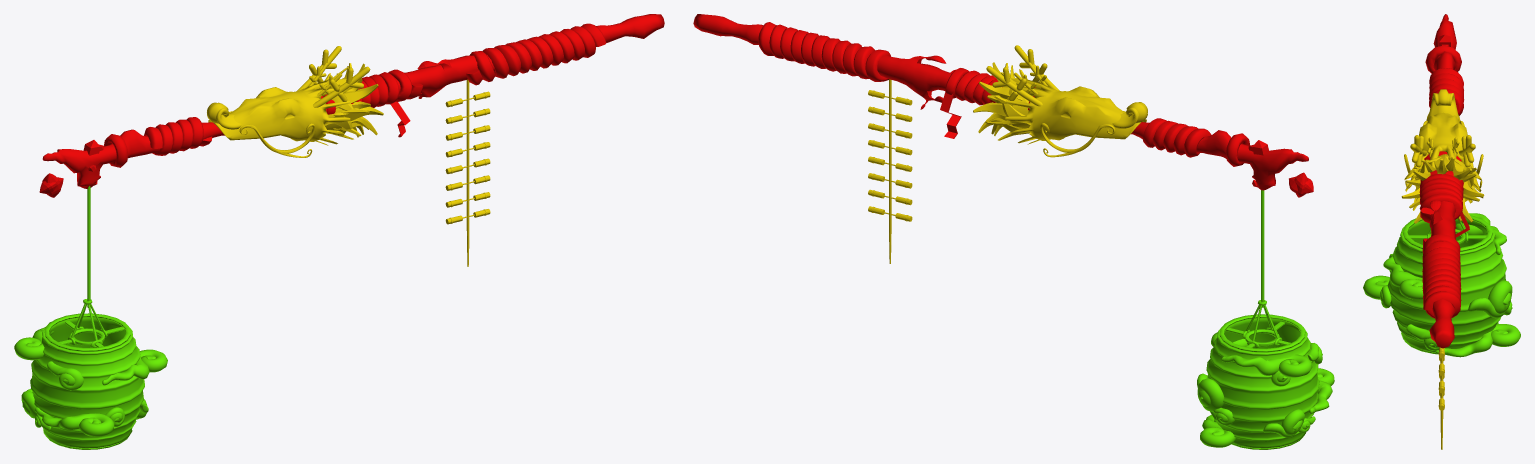
Rendered from Starbloom_UVed.fbx.
3 renders of one model, left to right at view 1: azimuth 30°, elevation 25°; view 2: azimuth 150°, elevation 25°; view 3: azimuth 270°, elevation 25°, orthographic. The views are drawn at different scales.
Visible parts, largest first — view 1: polySurface1147, polySurface733, polySurface1138; view 2: polySurface1147, polySurface733, polySurface1138; view 3: polySurface1147, polySurface733, polySurface1138.
Part boxes in pixels (box(x1,y1,x2,y2)): polySurface1147: box(14, 186, 167, 449); polySurface733: box(39, 14, 664, 197); polySurface1138: box(207, 46, 490, 266); polySurface1147: box(1197, 190, 1334, 449); polySurface733: box(693, 14, 1313, 197); polySurface1138: box(868, 45, 1147, 263); polySurface1147: box(1363, 213, 1520, 357); polySurface733: box(1419, 14, 1469, 348); polySurface1138: box(1401, 89, 1484, 449).
Bounding box in the file's own units: 10.42 × 4.95 × 2.17.
